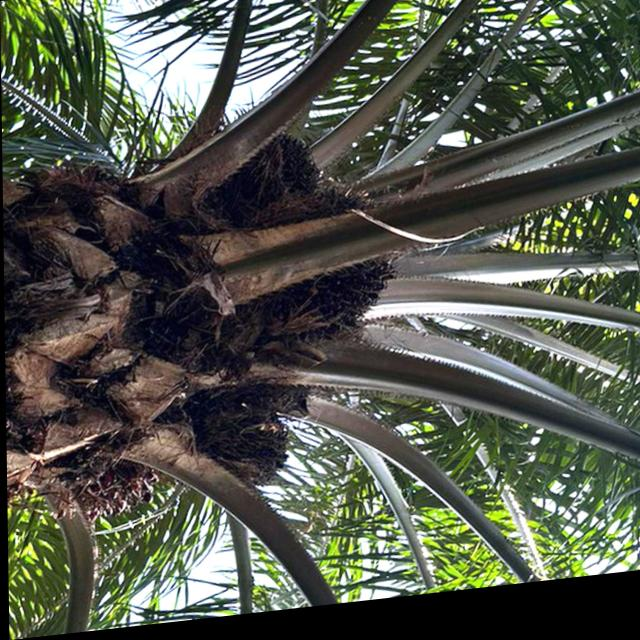ripe: (170, 377, 307, 513), (288, 187, 386, 354), (225, 125, 337, 239)
